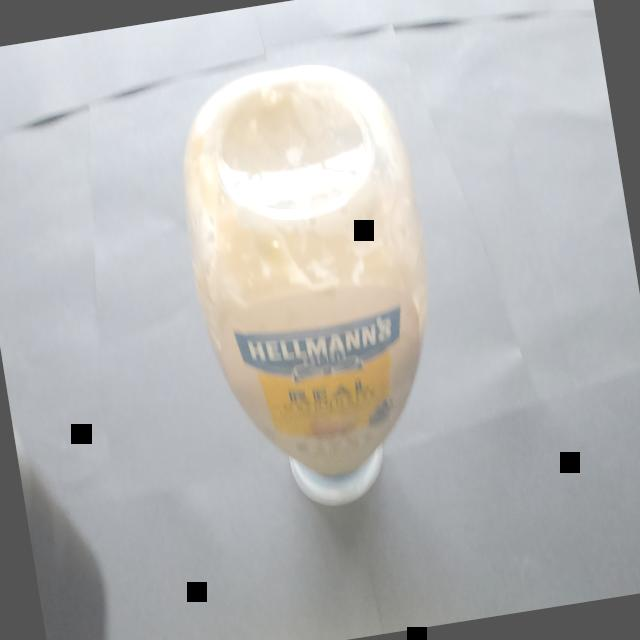Mayonnaise: (152, 38, 486, 544)
